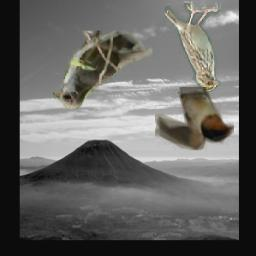Cuckoo: (53, 32, 152, 110)
Sparrow: (164, 1, 221, 92)
Swallow: (155, 87, 234, 150)
